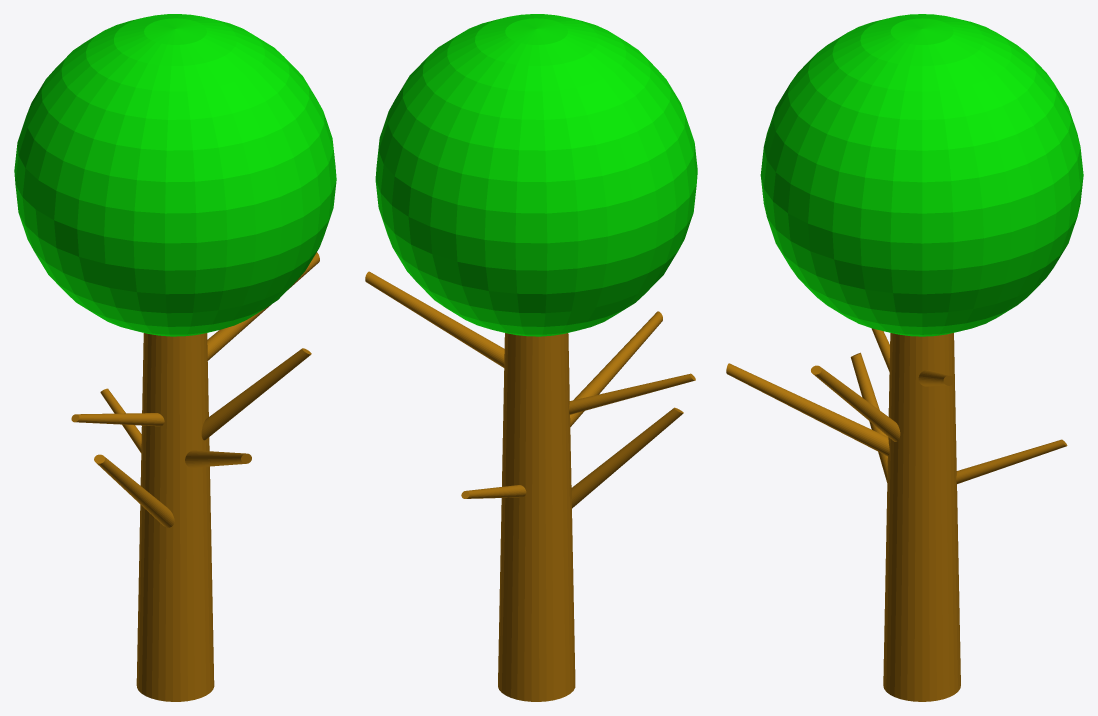
Rendered from Tree.fbx.
3 views of the same model, side by side, from view 1: azimuth 30°, elevation 25°; view 2: azimuth 150°, elevation 25°; view 3: azimuth 270°, elevation 25° (orthographic).
Parts seen in each view (by area): view 1: Sphere; view 2: Sphere; view 3: Sphere.
Boxes of the visible parts, x1,y1,x2,y2 form: Sphere: (14, 14, 336, 701); Sphere: (365, 14, 697, 701); Sphere: (726, 14, 1083, 701).
Bounding box in the file's own units: 519 × 1102 × 544.
